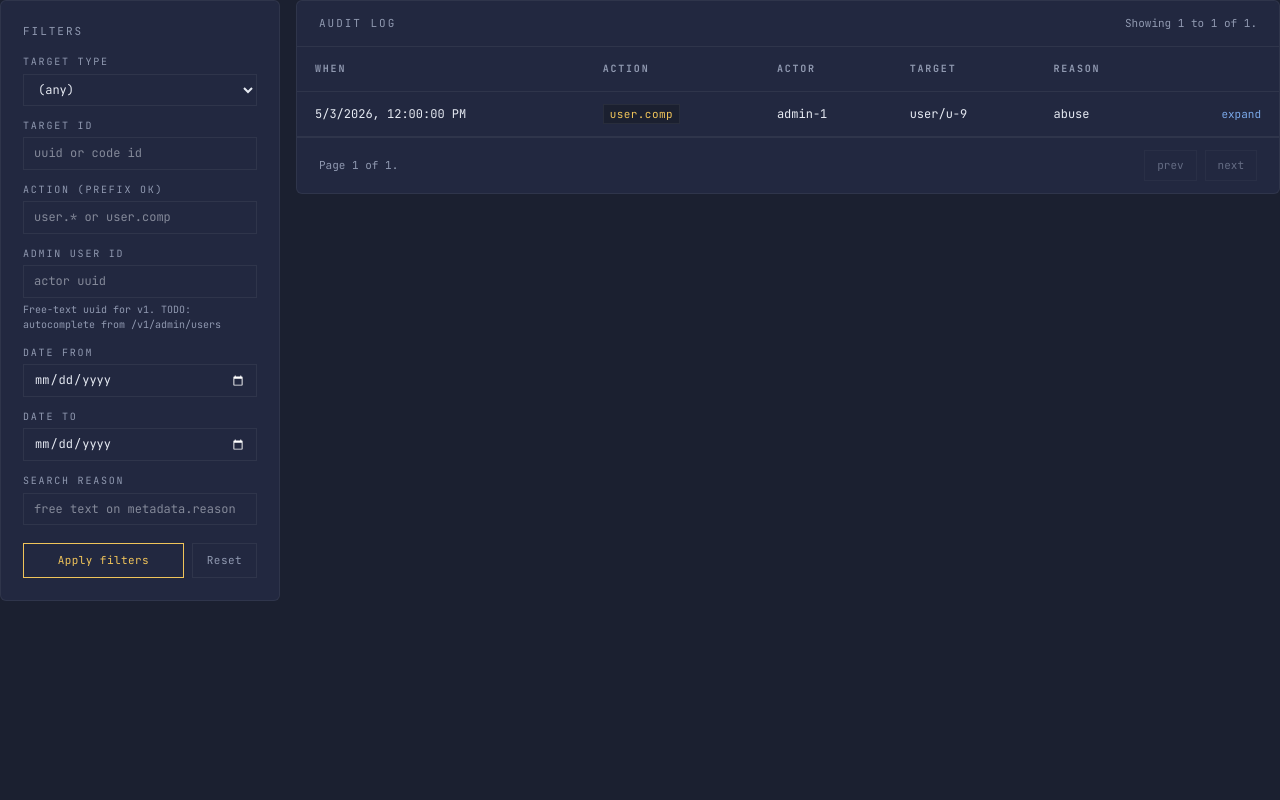
Scenario: AuditLog page › renders only one JSON block when only after is set
Click the button with aria-label "expand details" at (1241, 114), box [1221,106,1261,122]
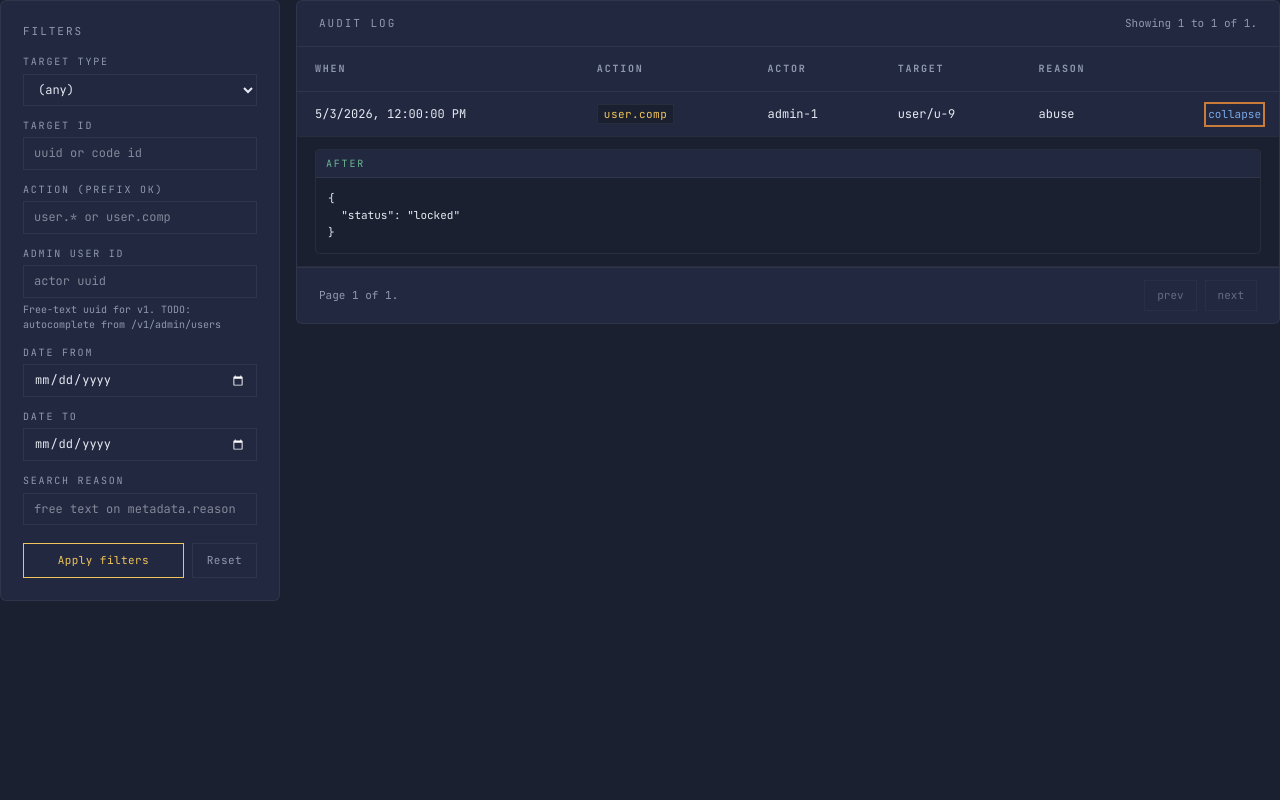
Now the text "After" is shown, box [316,150,1260,178]
